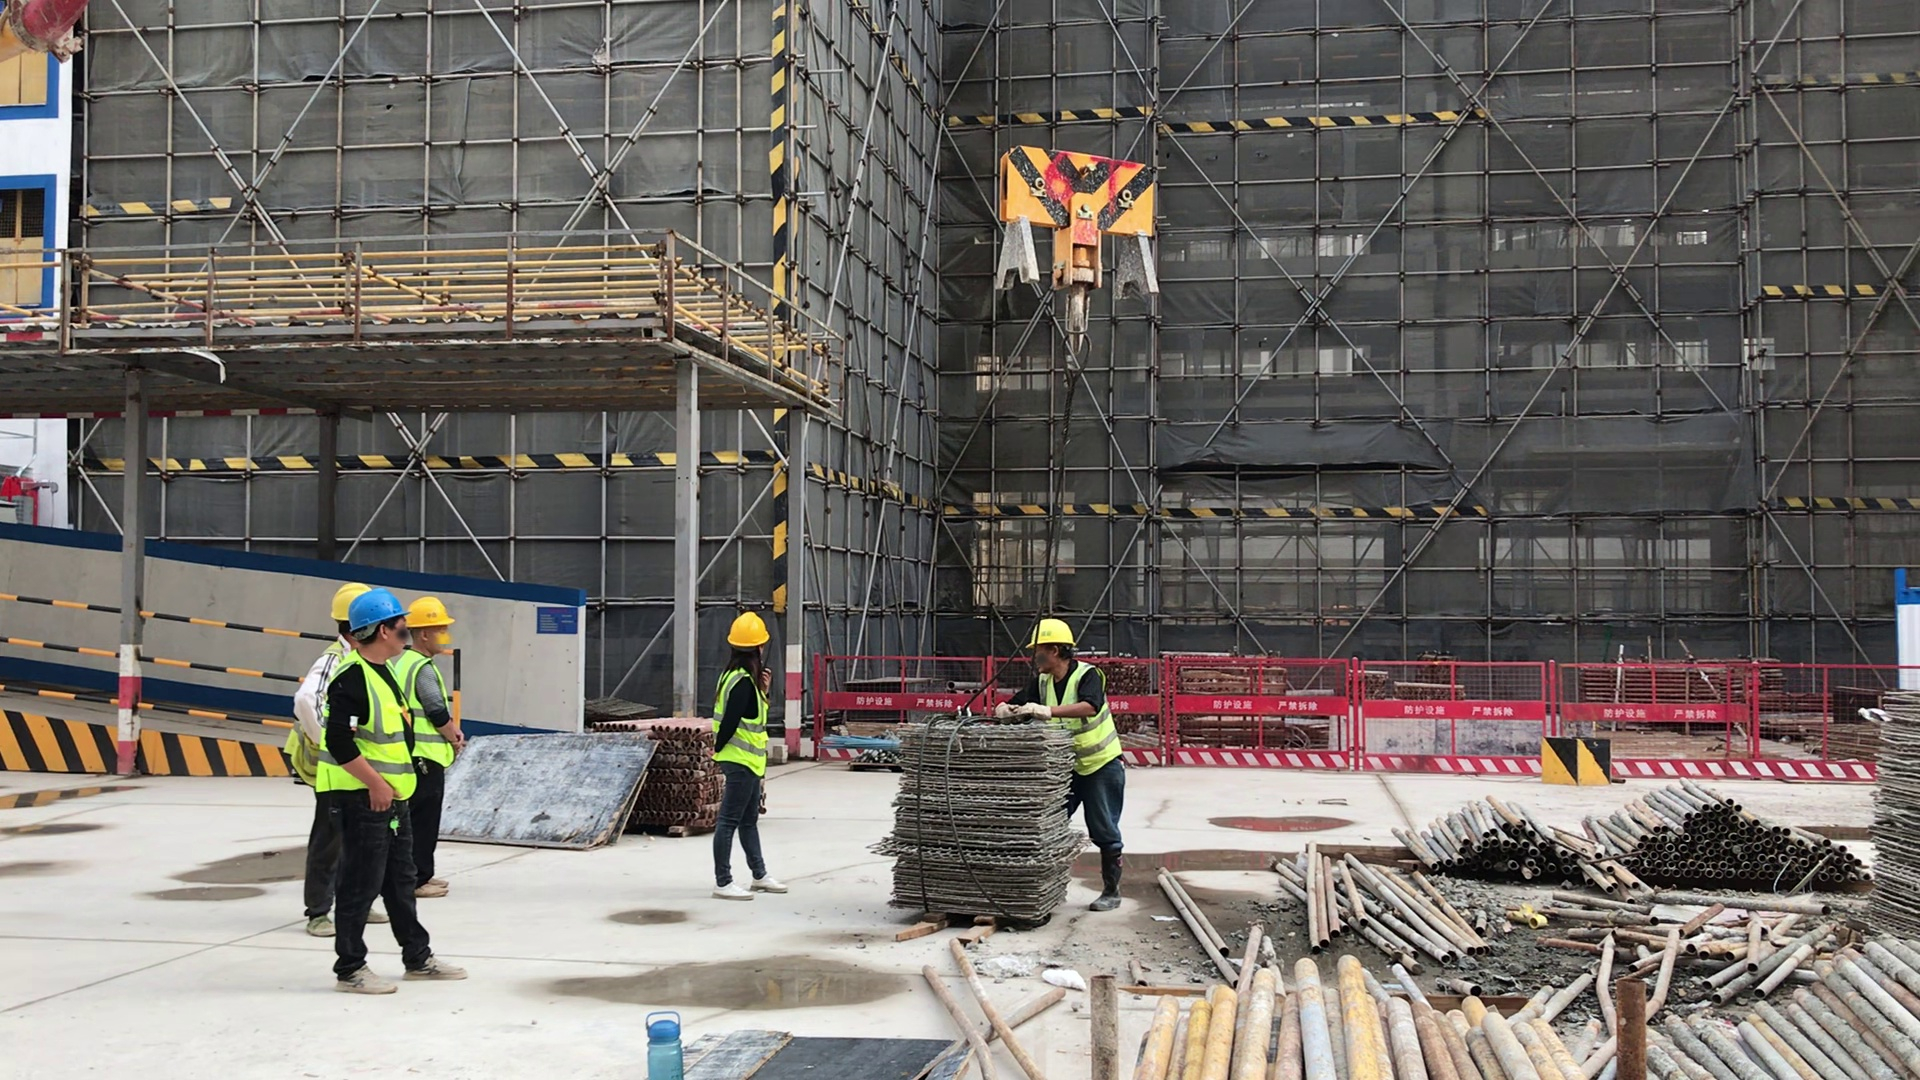helmet: (348, 589, 408, 630), (727, 607, 771, 649), (1025, 616, 1078, 649), (408, 597, 452, 633)
person: (314, 587, 468, 996), (998, 620, 1126, 914), (287, 582, 390, 937), (708, 611, 790, 901), (391, 596, 451, 900)
vest: (317, 649, 415, 810), (1036, 665, 1121, 776), (389, 651, 455, 772), (712, 668, 769, 774)
